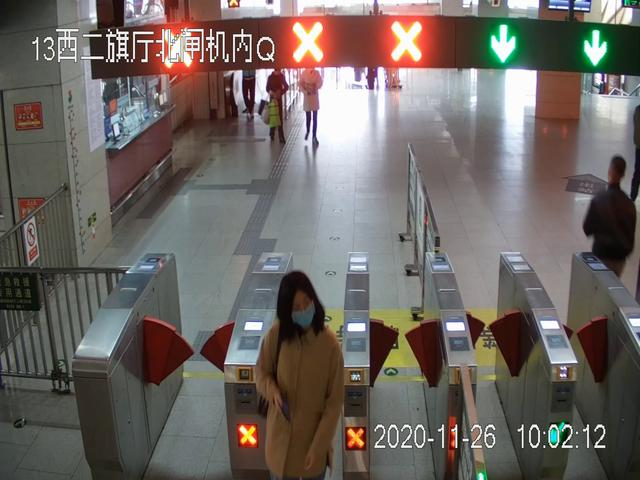person: (256, 271, 345, 480), (581, 155, 637, 347), (296, 66, 323, 147), (263, 67, 289, 146)
